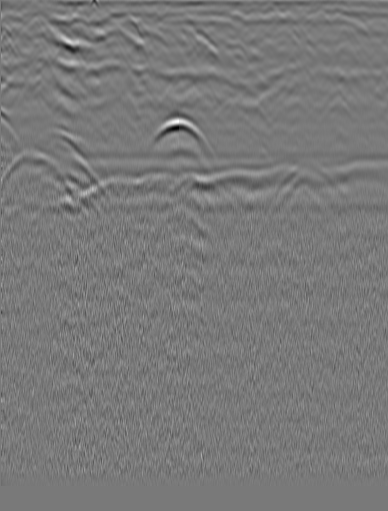가스: (75, 160, 386, 209)
